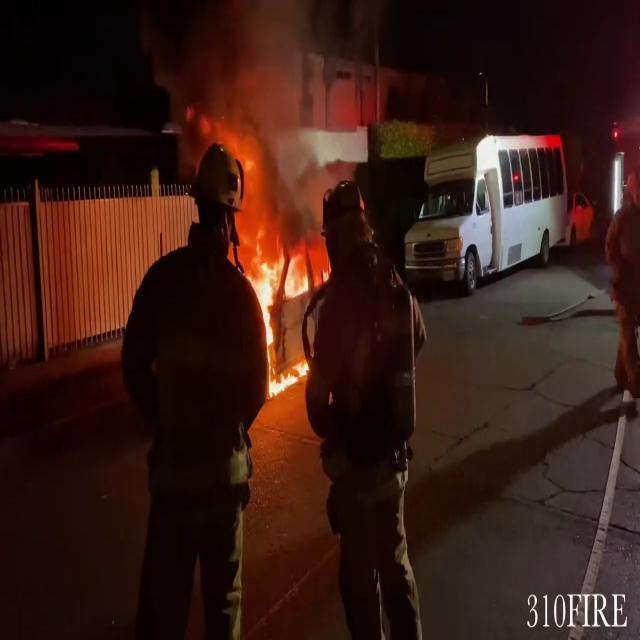Fire: (253, 240, 300, 400)
Smoke: (158, 2, 343, 231)
